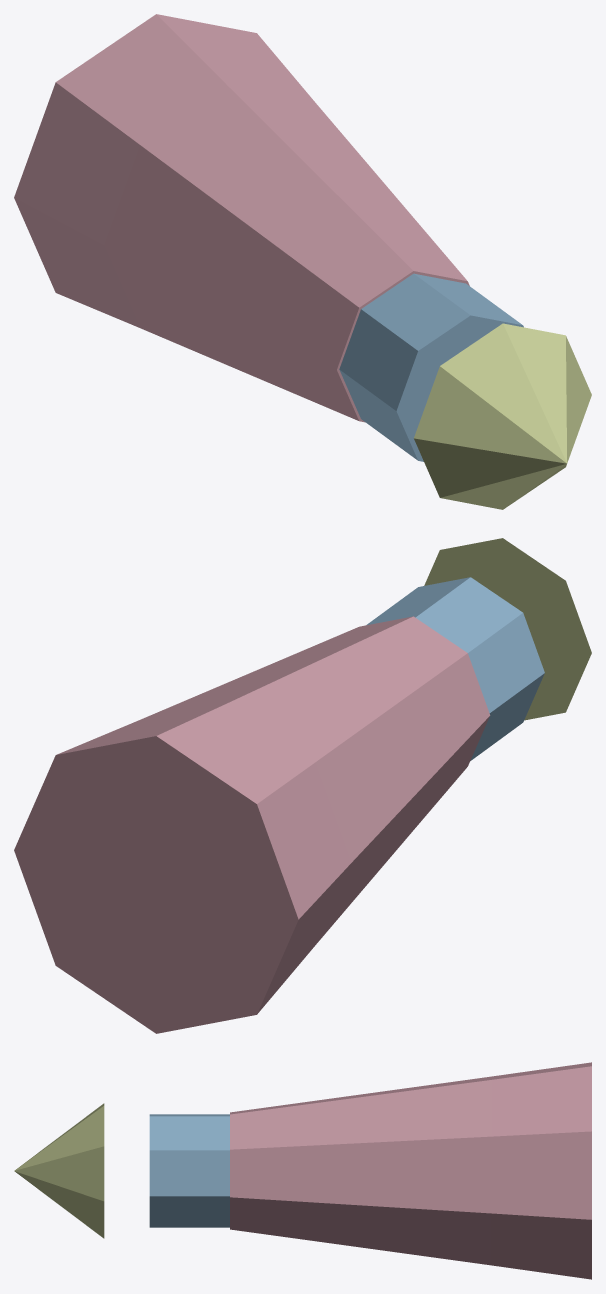
3 views of the same model, one above another, from view 1: azimuth 30°, elevation 25°; view 2: azimuth 150°, elevation 25°; view 3: azimuth 270°, elevation 25° (orthographic). The views are drawn at different scales.
Visible parts, largest first — view 1: part0, part2, part1; view 2: part0, part1, part2; view 3: part0, part1, part2.
Part boxes in pixels (left/top/right/bottom): part0: left=14, top=14, right=469, bottom=422; part2: left=414, top=323, right=591, bottom=509; part1: left=339, top=273, right=523, bottom=461; part0: left=14, top=616, right=490, bottom=1033; part1: left=366, top=577, right=544, bottom=760; part2: left=424, top=538, right=591, bottom=720; part0: left=230, top=1062, right=591, bottom=1279; part1: left=149, top=1114, right=229, bottom=1227; part2: left=14, top=1103, right=104, bottom=1238.
Bounding box in the file's own units: 2.3 × 2.3 × 5.75.
